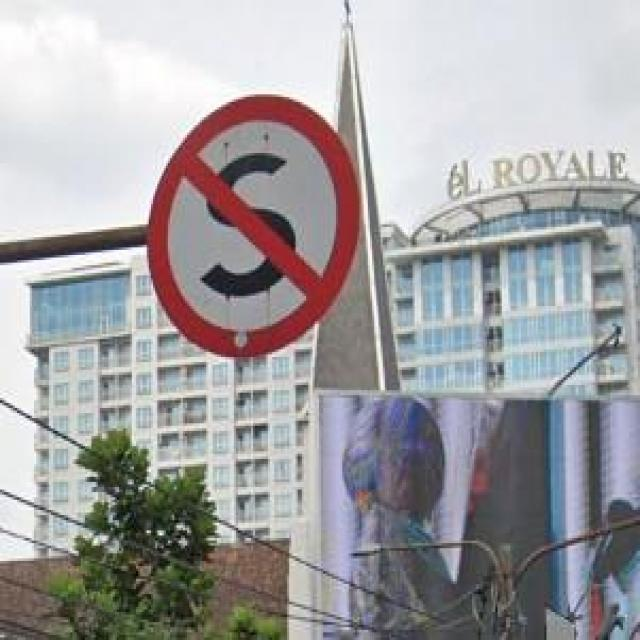traffic sign: (143, 94, 360, 356)
